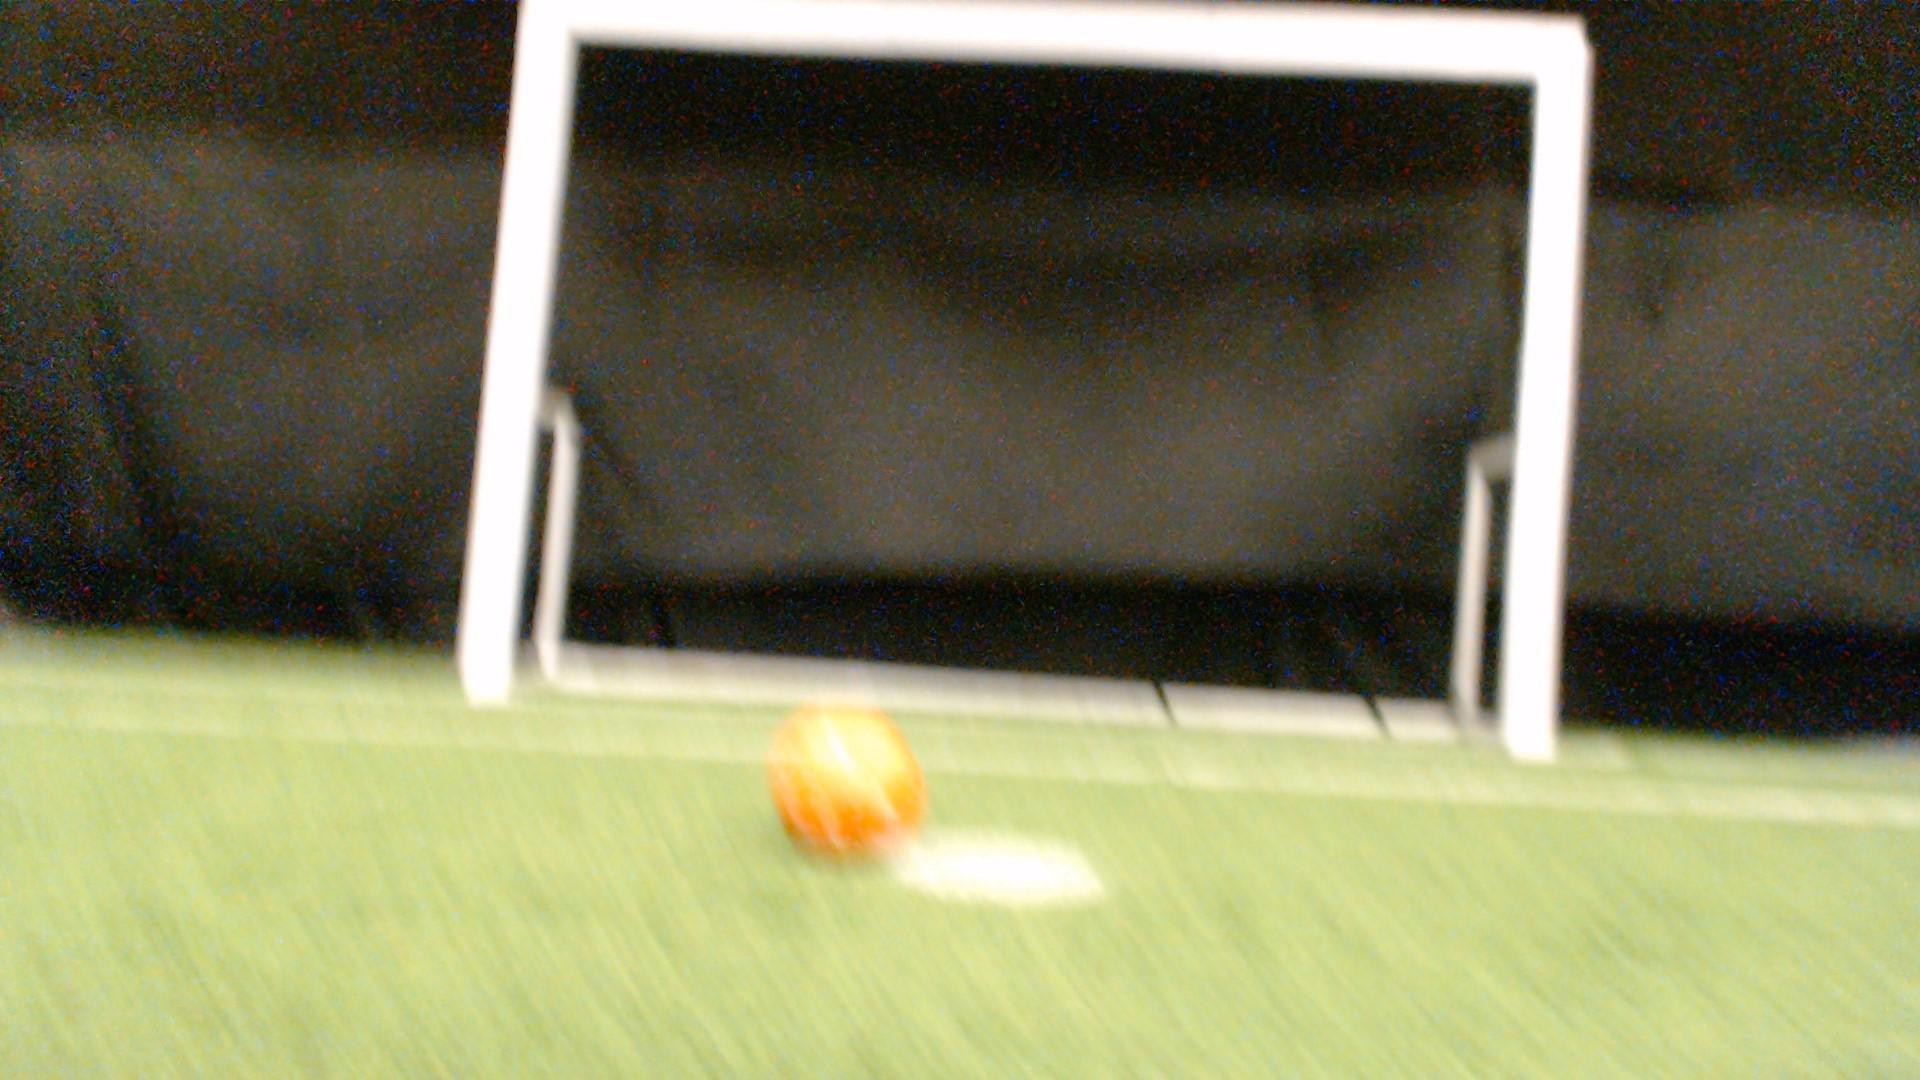bola: (761, 692, 940, 866)
